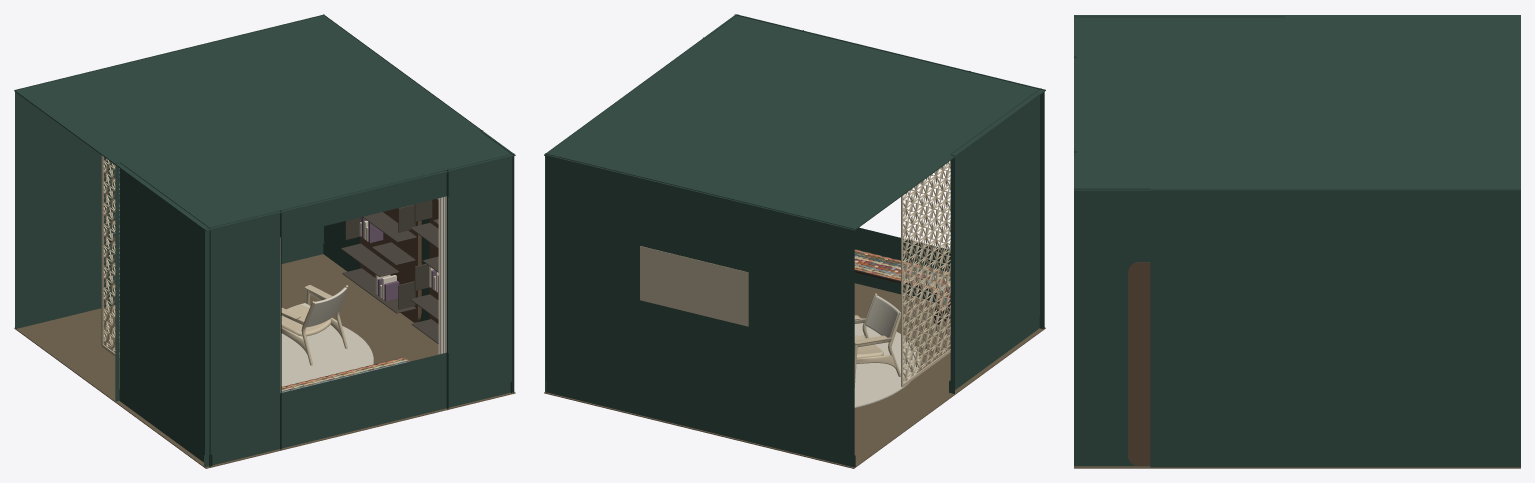
File: formal-3.glb
The picture shows the model from 3 angles, left to right: view 1: azimuth 30°, elevation 25°; view 2: azimuth 150°, elevation 25°; view 3: azimuth 270°, elevation 25°; orthographic projection. The views are drawn at different scales.
Visible parts, largest first — view 1: DESIGN | formal removable wall finish, DESIGN | formal ceiling finish, DESIGN | formal floor finish, DESIGN | Required Blabla bookcase 2, DESIGN | Formal ground, DESIGN | Kumiko | Listening room acoustic screen, DESIGN | Listening chair two, DESIGN | Required Blabla bookcase 1, DESIGN | Formal soft window edge.001, DESIGN | Required Brera anniversary window bench; view 2: DESIGN | formal removable wall finish, DESIGN | formal ceiling finish, DESIGN | Kumiko | Listening room acoustic screen, DESIGN | formal floor finish, DESIGN | Quiet artwork frame, DESIGN | Formal ground, DESIGN | Listening chair one, DESIGN | Required Brera anniversary window bench; view 3: DESIGN | formal removable wall finish, DESIGN | formal ceiling finish, DESIGN | Required Blabla bookcase 1, DESIGN | formal floor finish.
Boxes of the visible parts, bbox=[...] form: DESIGN | formal removable wall finish: bbox=[15, 14, 514, 466]; DESIGN | formal ceiling finish: bbox=[14, 15, 515, 231]; DESIGN | formal floor finish: bbox=[14, 254, 515, 468]; DESIGN | Required Blabla bookcase 2: bbox=[341, 204, 421, 322]; DESIGN | Formal ground: bbox=[281, 325, 373, 386]; DESIGN | Kumiko | Listening room acoustic screen: bbox=[101, 155, 119, 359]; DESIGN | Listening chair two: bbox=[281, 285, 348, 365]; DESIGN | Required Blabla bookcase 1: bbox=[410, 198, 438, 343]; DESIGN | Formal soft window edge.001: bbox=[438, 196, 446, 354]; DESIGN | Required Brera anniversary window bench: bbox=[281, 357, 409, 392]; DESIGN | formal removable wall finish: bbox=[545, 14, 1044, 467]; DESIGN | formal ceiling finish: bbox=[544, 14, 1045, 231]; DESIGN | Kumiko | Listening room acoustic screen: bbox=[901, 161, 950, 387]; DESIGN | formal floor finish: bbox=[544, 283, 1045, 468]; DESIGN | Quiet artwork frame: bbox=[640, 246, 748, 326]; DESIGN | Formal ground: bbox=[854, 318, 919, 407]; DESIGN | Listening chair one: bbox=[854, 293, 900, 387]; DESIGN | Required Brera anniversary window bench: bbox=[854, 249, 950, 325]; DESIGN | formal removable wall finish: bbox=[1074, 16, 1520, 467]; DESIGN | formal ceiling finish: bbox=[1074, 15, 1520, 191]; DESIGN | Required Blabla bookcase 1: bbox=[1128, 262, 1150, 465]; DESIGN | formal floor finish: bbox=[1074, 466, 1520, 468].
Size of the model in its own units: 3.71 by 2.74 by 3.98.
